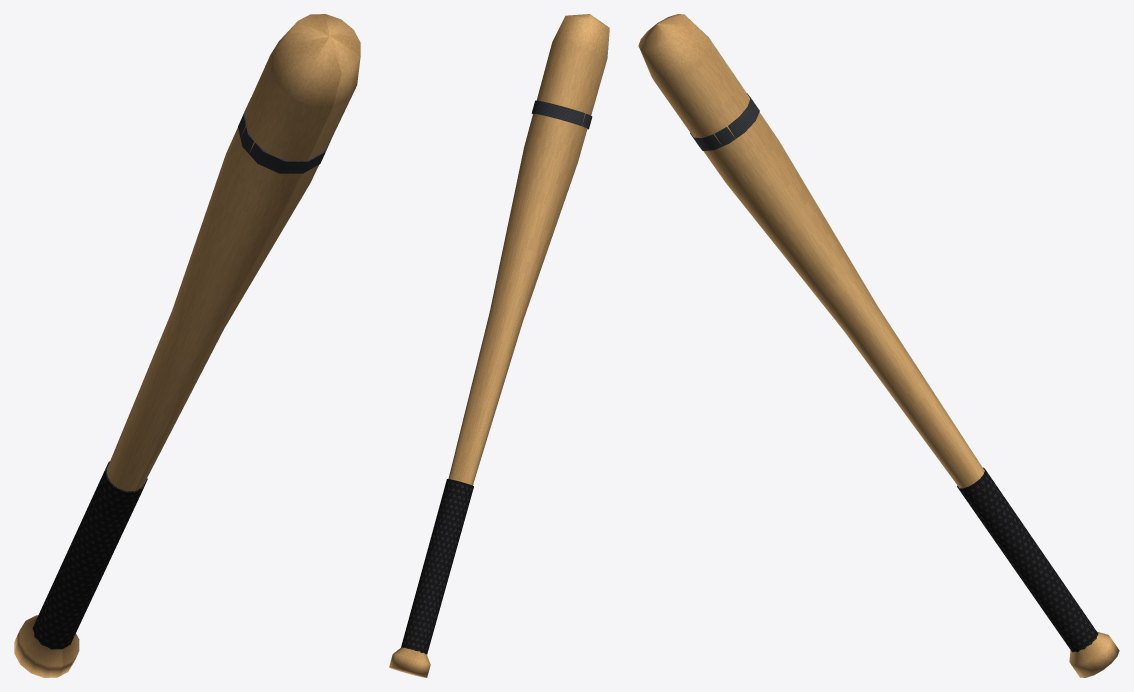
Rendered from baseball_bat.glb.
The picture shows the model from 3 angles, left to right: view 1: azimuth 30°, elevation 25°; view 2: azimuth 150°, elevation 25°; view 3: azimuth 270°, elevation 25°; orthographic projection. The views are drawn at different scales.
Visible parts, largest first — view 1: weapon_baseball_bat; view 2: weapon_baseball_bat; view 3: weapon_baseball_bat.
Boxes of the visible parts, left/top/right/bottom form: weapon_baseball_bat: left=14, top=14, right=360, bottom=677; weapon_baseball_bat: left=389, top=14, right=609, bottom=677; weapon_baseball_bat: left=638, top=14, right=1119, bottom=677.
Bounding box in the file's own units: 0.071 × 0.7097 × 0.4717.
Materials: 3 (3 with a texture image).
